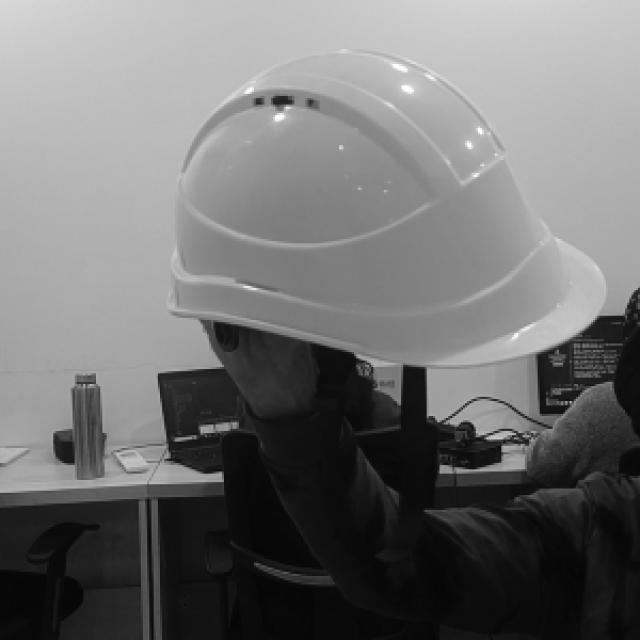safety_helmet: (168, 49, 606, 367)
